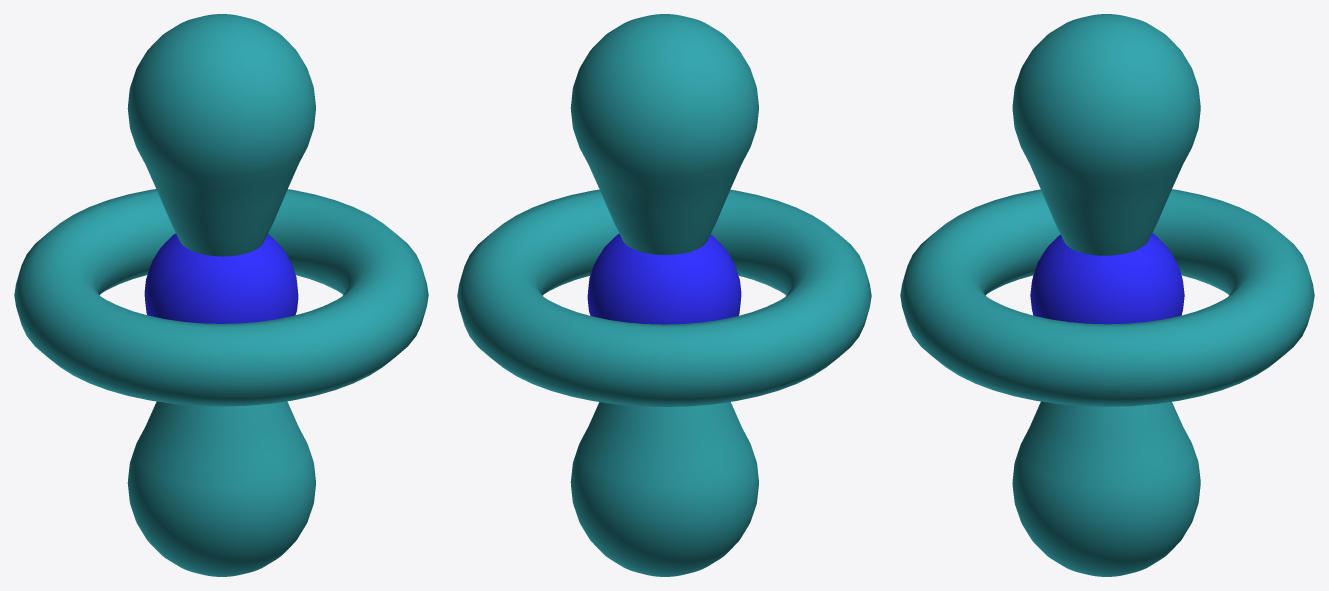
The picture shows the model from 3 angles, left to right: view 1: azimuth 30°, elevation 25°; view 2: azimuth 150°, elevation 25°; view 3: azimuth 270°, elevation 25°; orthographic projection.
Visible parts, largest first — view 1: Torus, Sphere.001, Sphere.002, Sphere; view 2: Torus, Sphere.001, Sphere.002, Sphere; view 3: Torus, Sphere.001, Sphere.002, Sphere.
Boxes of the visible parts, bbox=[...] form: Torus: bbox=[14, 189, 428, 406]; Sphere.001: bbox=[127, 14, 315, 256]; Sphere.002: bbox=[127, 401, 315, 576]; Sphere: bbox=[144, 233, 298, 323]; Torus: bbox=[457, 189, 871, 406]; Sphere.001: bbox=[570, 14, 758, 254]; Sphere.002: bbox=[570, 402, 758, 576]; Sphere: bbox=[587, 233, 741, 324]; Torus: bbox=[900, 189, 1314, 406]; Sphere.001: bbox=[1012, 14, 1200, 255]; Sphere.002: bbox=[1012, 401, 1200, 576]; Sphere: bbox=[1030, 233, 1184, 324].
Bounding box in the file's own units: 3.52 × 5.11 × 3.52.
Materials: 2 (1 with a texture image).
